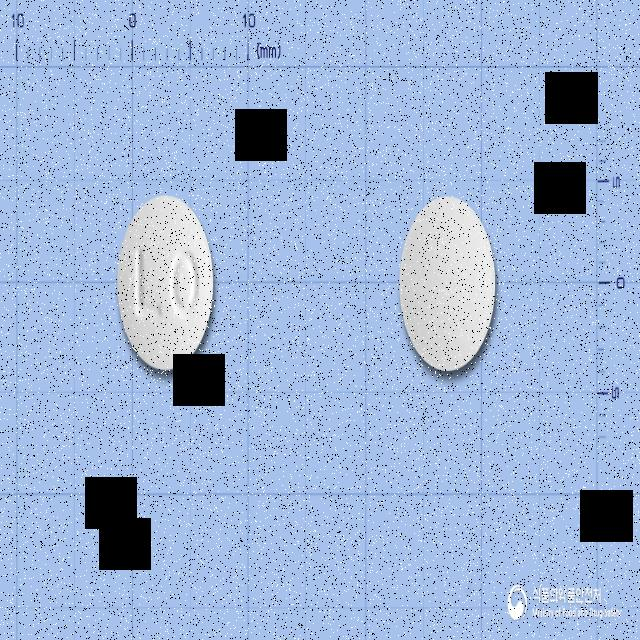Lebofacin: (117, 193, 214, 372)
